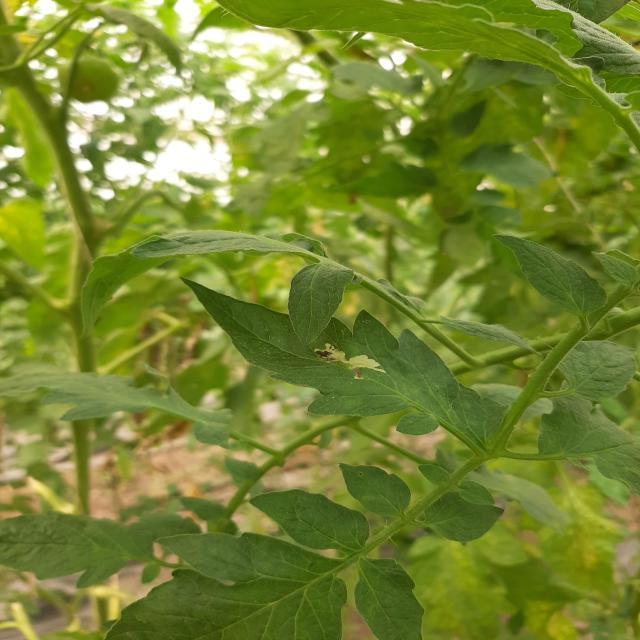Healthy: (107, 533, 346, 640), (483, 216, 614, 327), (242, 468, 376, 568), (269, 248, 356, 349), (327, 448, 418, 526), (418, 482, 503, 554), (555, 337, 638, 405), (355, 558, 423, 640)
Tuta absoluta: (313, 332, 388, 389)
